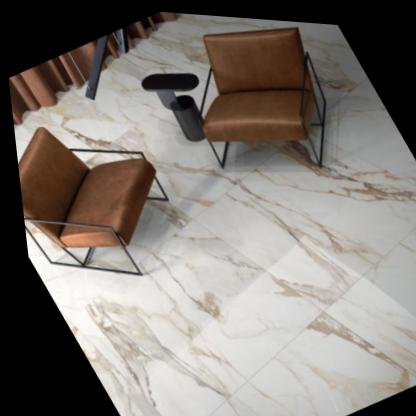Ceramic floor: (11, 10, 416, 416)
